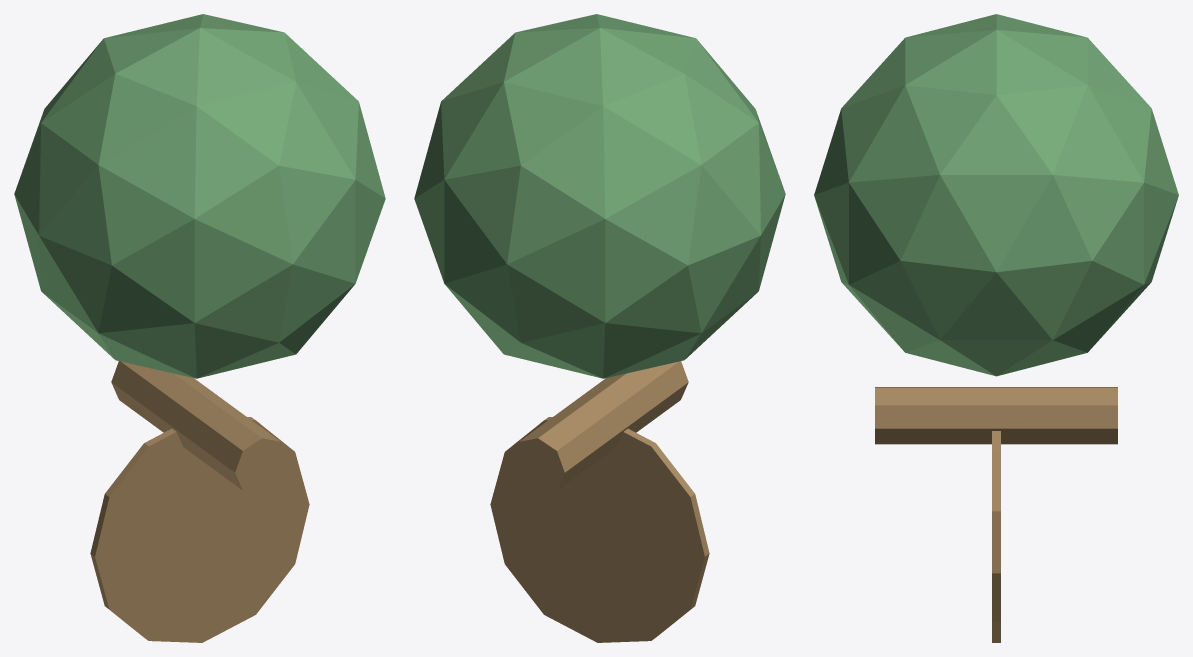
The model's file is env_tree_small.glb.
The picture shows the model from 3 angles, left to right: view 1: azimuth 30°, elevation 25°; view 2: azimuth 150°, elevation 25°; view 3: azimuth 270°, elevation 25°; orthographic projection.
Parts seen in each view (by area): view 1: world; view 2: world; view 3: world.
Boxes of the visible parts, box(x1,y1,x2,y2) form: world: box(14, 14, 385, 642); world: box(414, 14, 785, 642); world: box(814, 14, 1178, 642).
Bounding box in the file's own units: 1.2 × 2.18 × 1.2.
